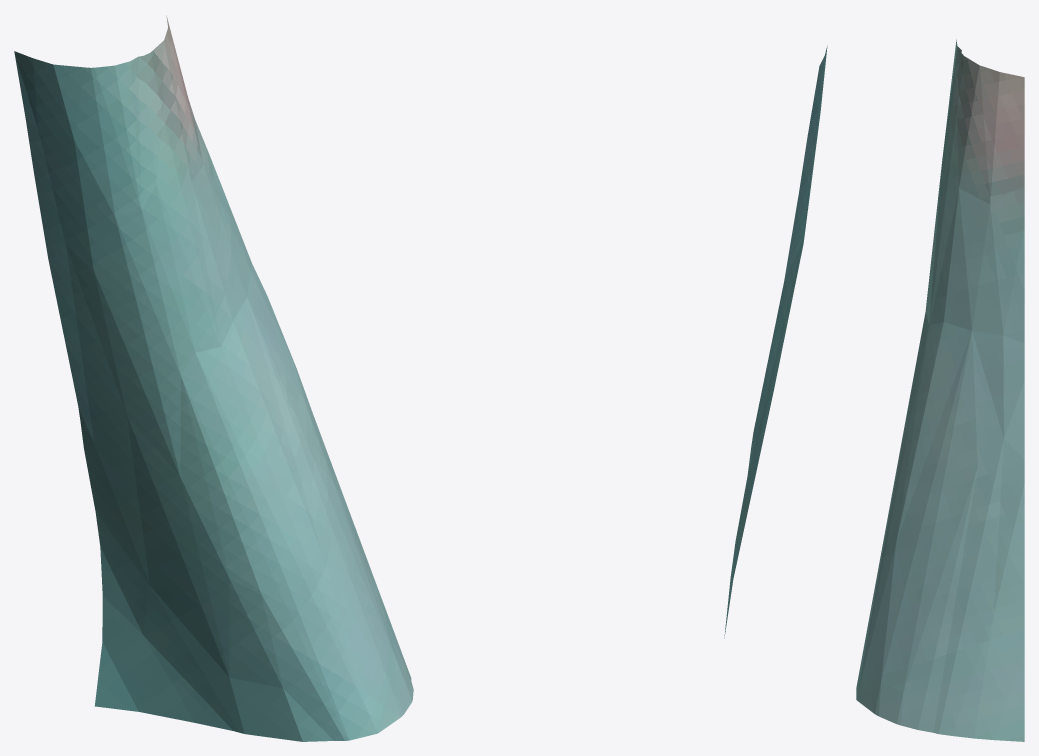
The picture shows the model from 3 angles, left to right: view 1: azimuth 30°, elevation 25°; view 2: azimuth 150°, elevation 25°; view 3: azimuth 270°, elevation 25°; orthographic projection. The views are drawn at different scales.
Bounding box in the file's own units: 24.3 × 42.87 × 11.36.
Materials: 1 (1 with a texture image).
